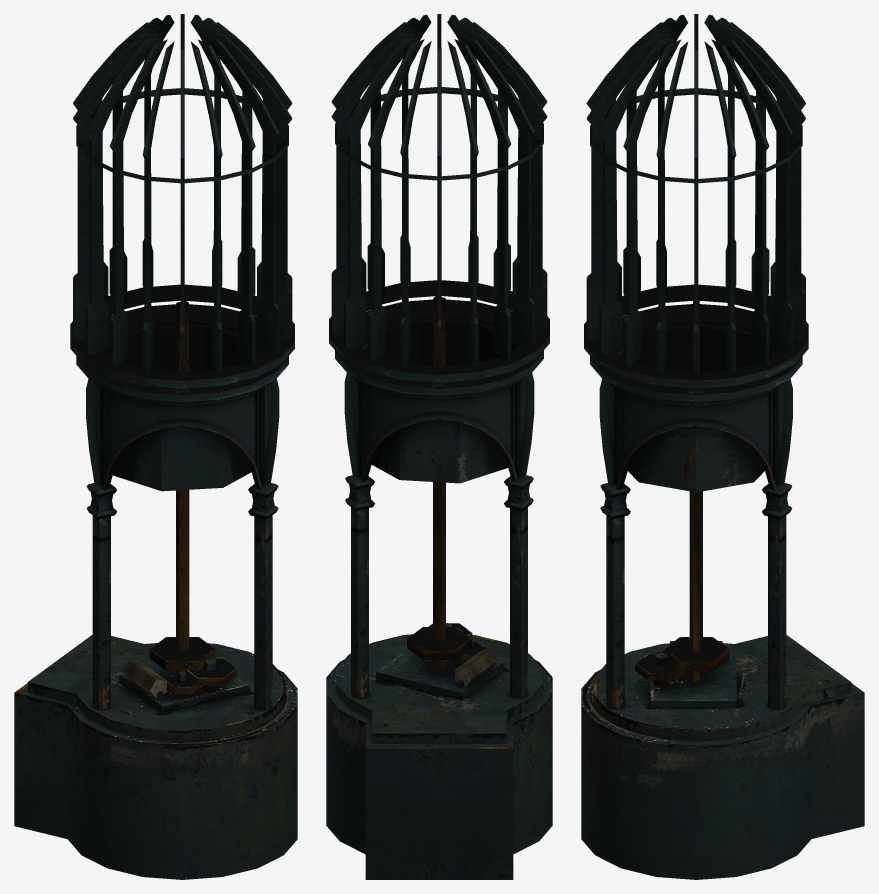
File: lighthouse_fresnel_light_base.glb
3 views of the same model, side by side, from view 1: azimuth 30°, elevation 25°; view 2: azimuth 150°, elevation 25°; view 3: azimuth 270°, elevation 25° (orthographic).
Parts seen in each view (by area): view 1: lighthouse_fresnel_light_base; view 2: lighthouse_fresnel_light_base; view 3: lighthouse_fresnel_light_base.
Boxes of the visible parts, <box> form: lighthouse_fresnel_light_base: <box>14,14,297,879</box>; lighthouse_fresnel_light_base: <box>326,14,552,879</box>; lighthouse_fresnel_light_base: <box>581,14,864,879</box>.
Bounding box in the file's own units: 1.45 × 4.98 × 1.6.
Materials: 1 (1 with a texture image).
